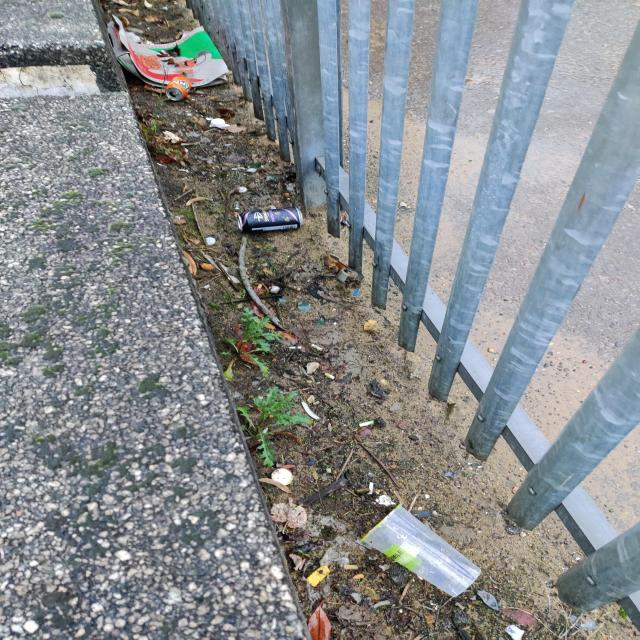litter: (235, 209, 304, 231)
